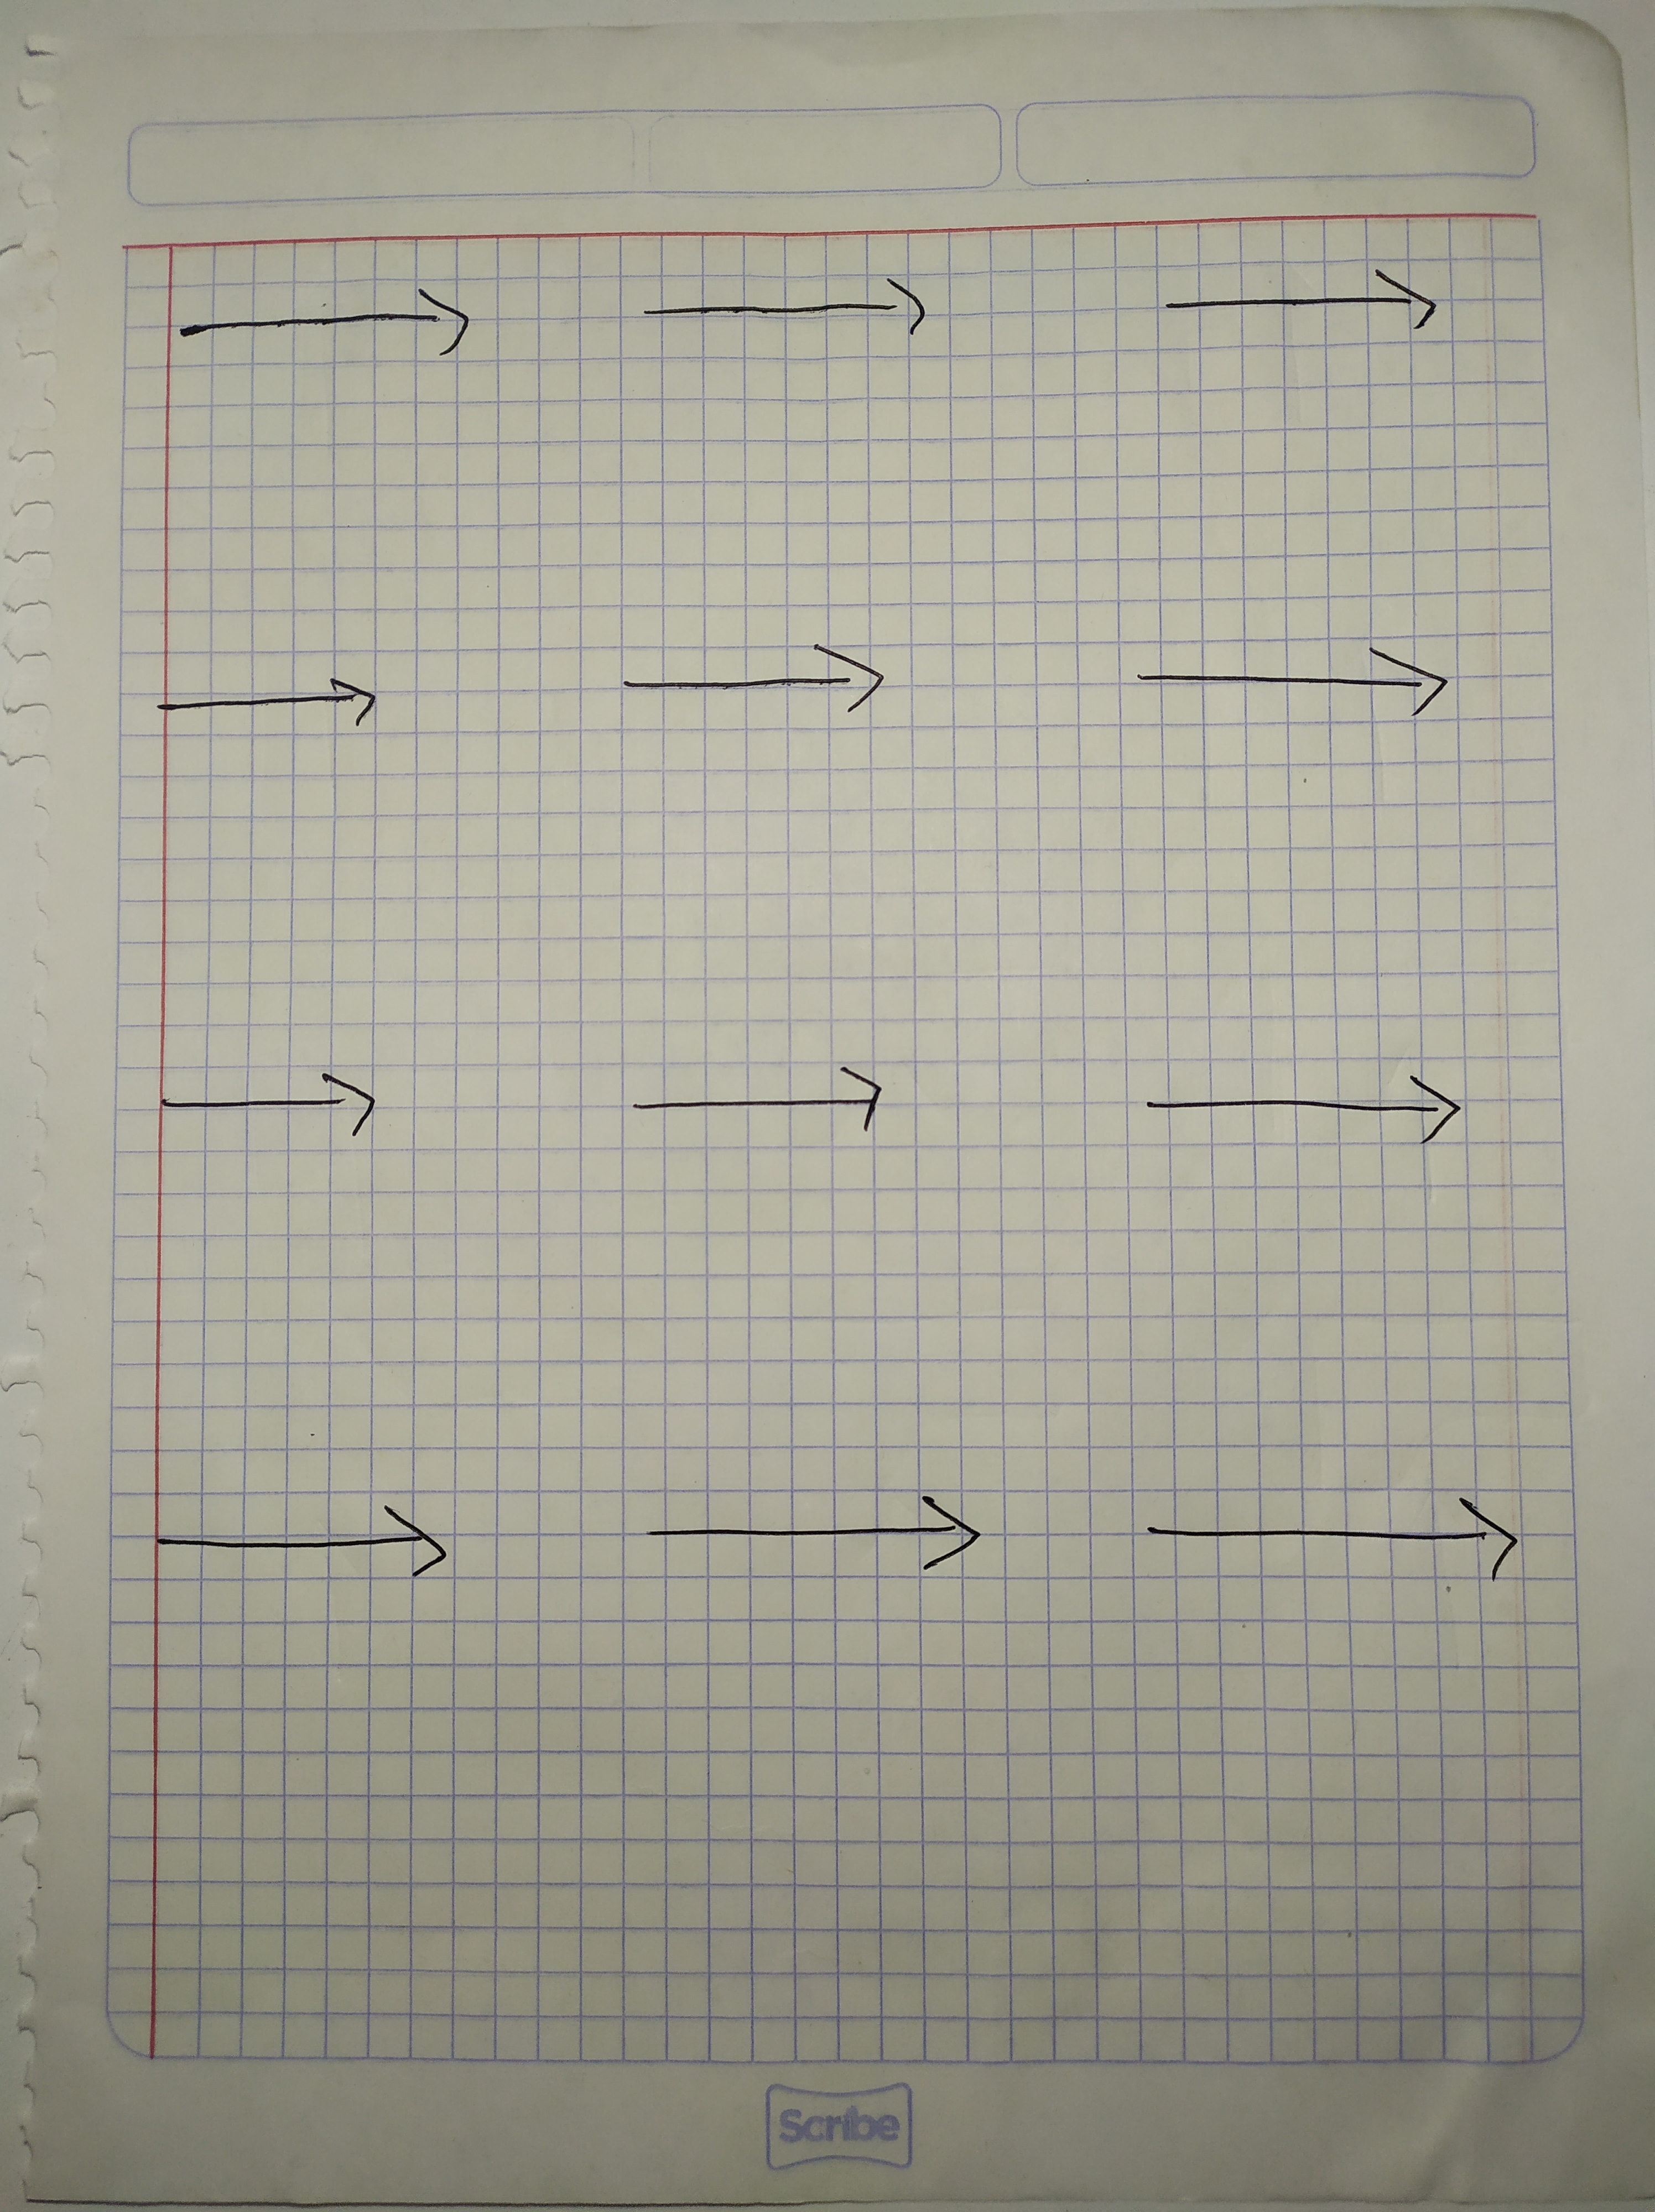arrow_line_right: (1130, 1465, 1551, 1597), (1121, 1056, 1490, 1178), (624, 1474, 1015, 1585), (134, 1484, 473, 1606), (1106, 627, 1462, 742), (593, 629, 918, 742), (614, 250, 946, 356), (1139, 254, 1452, 361), (160, 278, 497, 370), (612, 1055, 944, 1145), (139, 1056, 414, 1152), (144, 664, 415, 751)
